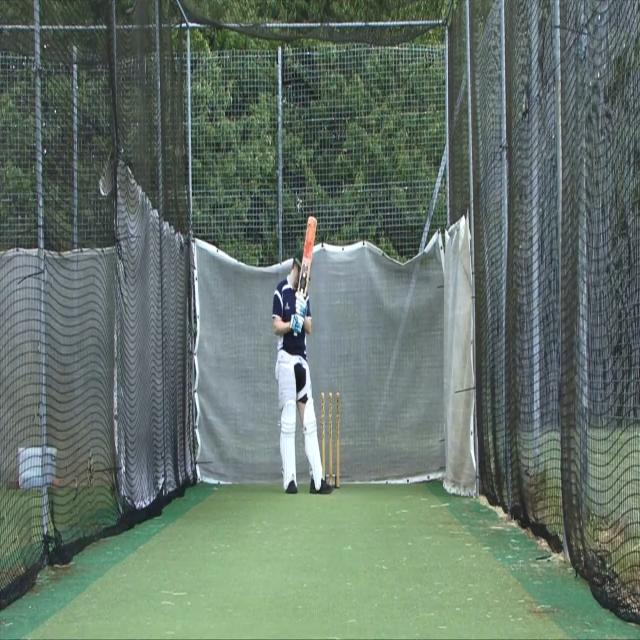batsman: (271, 214, 334, 496)
